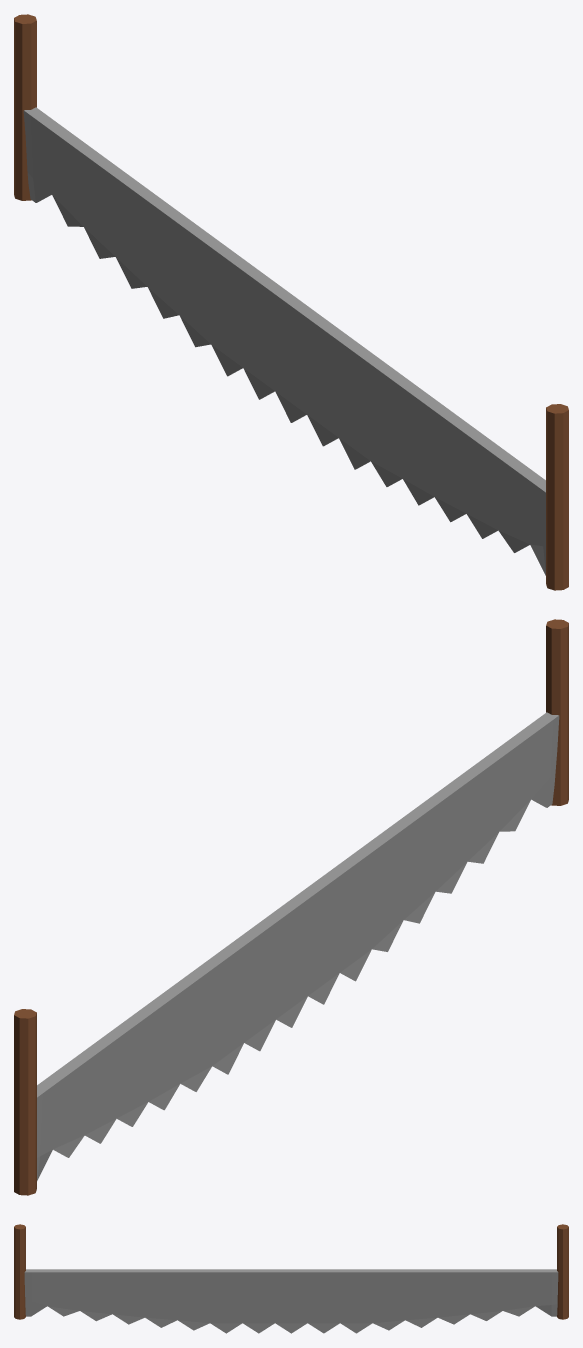
File: saw01.gltf
3 views of the same model, one above another, from view 1: azimuth 30°, elevation 25°; view 2: azimuth 150°, elevation 25°; view 3: azimuth 270°, elevation 25° (orthographic). The views are drawn at different scales.
Visible parts, largest first — view 1: Cube; view 2: Cube; view 3: Cube.
Boxes of the visible parts, x1,y1,x2,y2 form: Cube: (14, 14, 568, 590); Cube: (14, 619, 568, 1195); Cube: (14, 1224, 568, 1333).
Bounding box in the file's own units: 0.0306 × 0.2988 × 1.41.
1 material, 1 textured.
